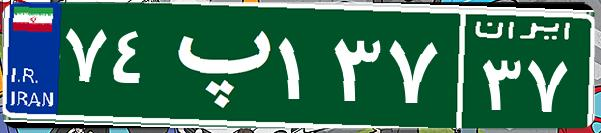1: (273, 28, 330, 110)
3: (330, 28, 385, 110), (475, 38, 525, 113)
4: (110, 28, 158, 105)
7: (385, 28, 445, 110), (57, 26, 110, 107), (525, 38, 570, 115)
پ: (158, 15, 273, 115)
